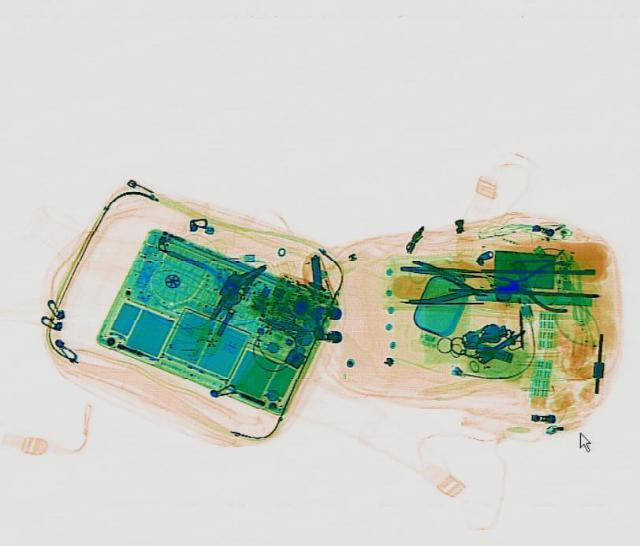Pliers: (480, 254, 574, 312), (400, 258, 490, 310)
